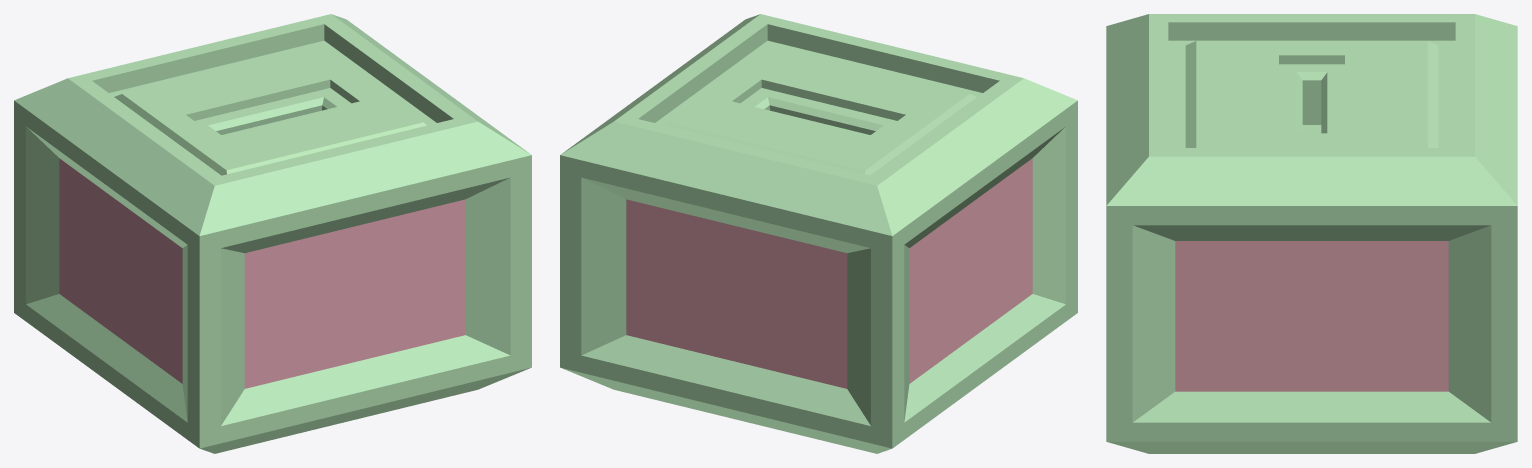
Rendered from tipbox.fbx.
3 renders of one model, left to right at view 1: azimuth 30°, elevation 25°; view 2: azimuth 150°, elevation 25°; view 3: azimuth 270°, elevation 25°, orthographic. The views are drawn at different scales.
Parts seen in each view (by area): view 1: Cube.029; view 2: Cube.029; view 3: Cube.029.
Part boxes in pixels (x1,y1,x2,y2): Cube.029: (14, 14, 531, 453); Cube.029: (560, 14, 1077, 453); Cube.029: (1106, 14, 1517, 453).
Size of the model in its own units: 63.52 by 48.96 by 61.39.
